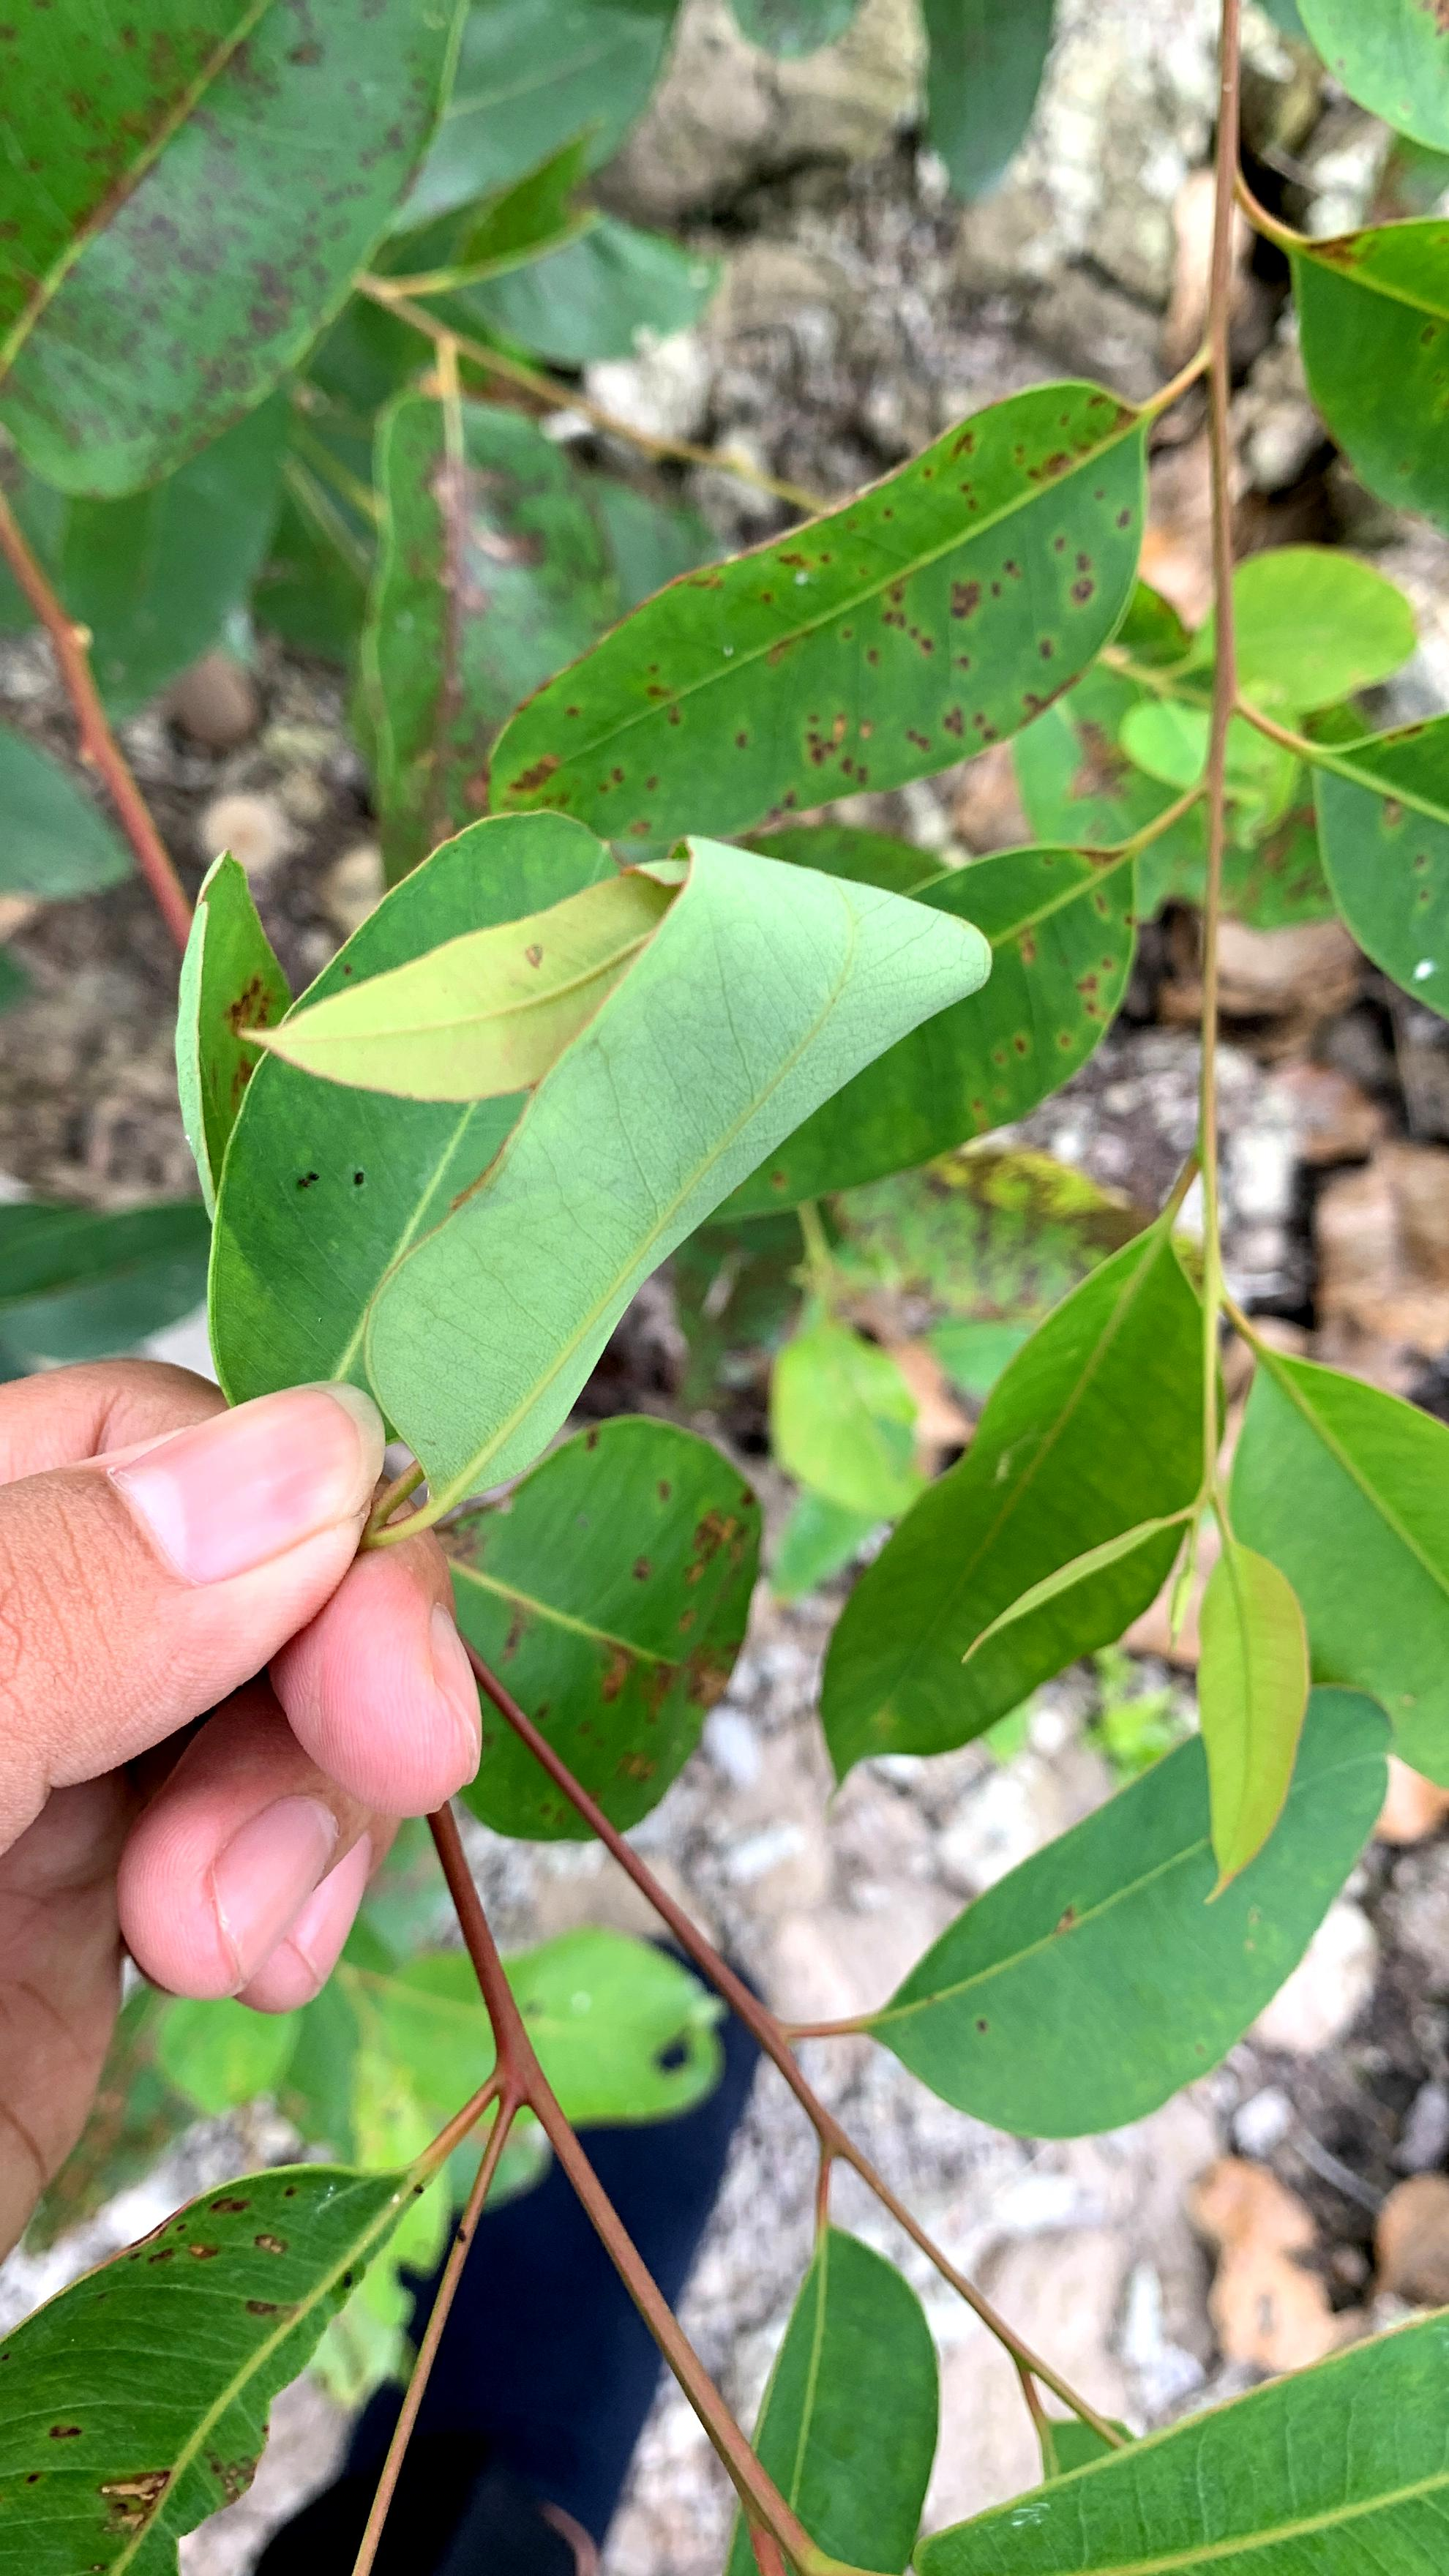Leaf Roller - Leaf: (343, 846, 992, 1545)
